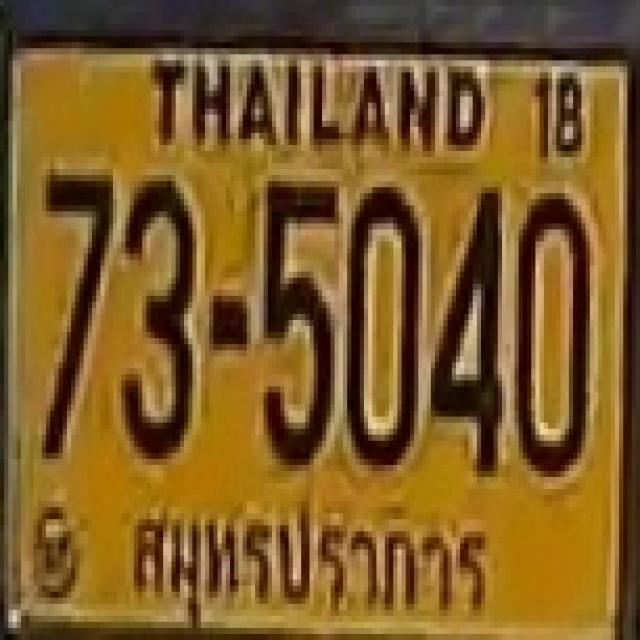0: (343, 181, 418, 465), (514, 187, 586, 471)
3: (117, 175, 193, 453)
4: (427, 181, 498, 471)
5: (259, 175, 335, 459)
7: (42, 169, 109, 453)
SPK: (108, 476, 494, 636)
